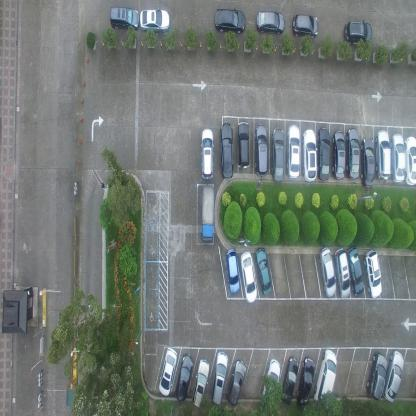car: (313, 348, 336, 405), (382, 349, 403, 403), (260, 358, 280, 410), (365, 352, 386, 401), (362, 249, 382, 300), (210, 350, 228, 406), (295, 358, 315, 408), (158, 345, 177, 396), (345, 245, 363, 296), (318, 247, 336, 298), (200, 184, 215, 245), (226, 358, 245, 406), (191, 358, 209, 408), (214, 7, 246, 35), (239, 250, 256, 302), (280, 355, 298, 404), (174, 352, 192, 400), (333, 247, 350, 297), (140, 6, 170, 34), (255, 8, 285, 36), (374, 130, 390, 182), (359, 138, 375, 190), (219, 122, 233, 181), (389, 133, 405, 184), (286, 122, 300, 180), (110, 5, 141, 31), (344, 17, 372, 45), (345, 126, 359, 181), (255, 247, 271, 295), (316, 124, 329, 183), (301, 128, 315, 182), (253, 124, 267, 178), (292, 12, 319, 40), (224, 247, 240, 293), (201, 126, 214, 180), (272, 126, 284, 183), (331, 130, 344, 180), (236, 121, 248, 171), (404, 136, 415, 188)
